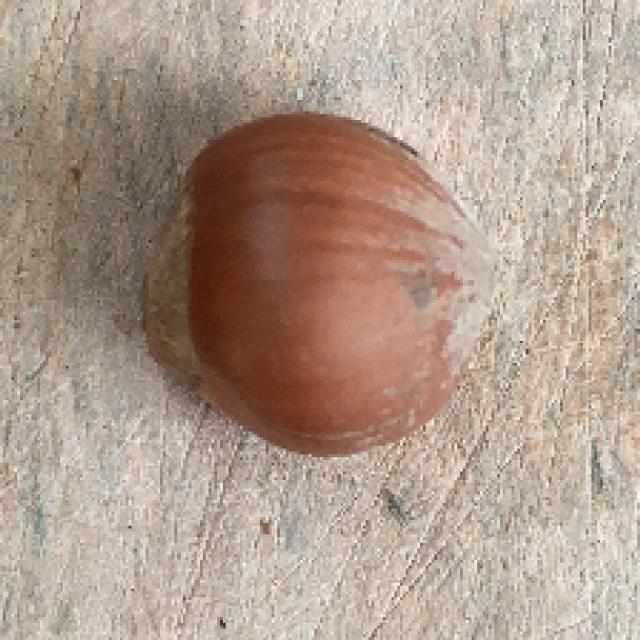qualityHazelnut: (138, 115, 514, 464)
